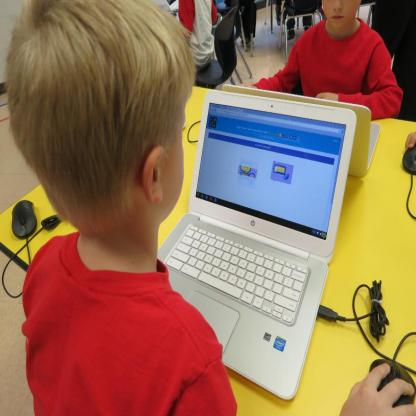board: (158, 91, 356, 400), (222, 85, 380, 177)
